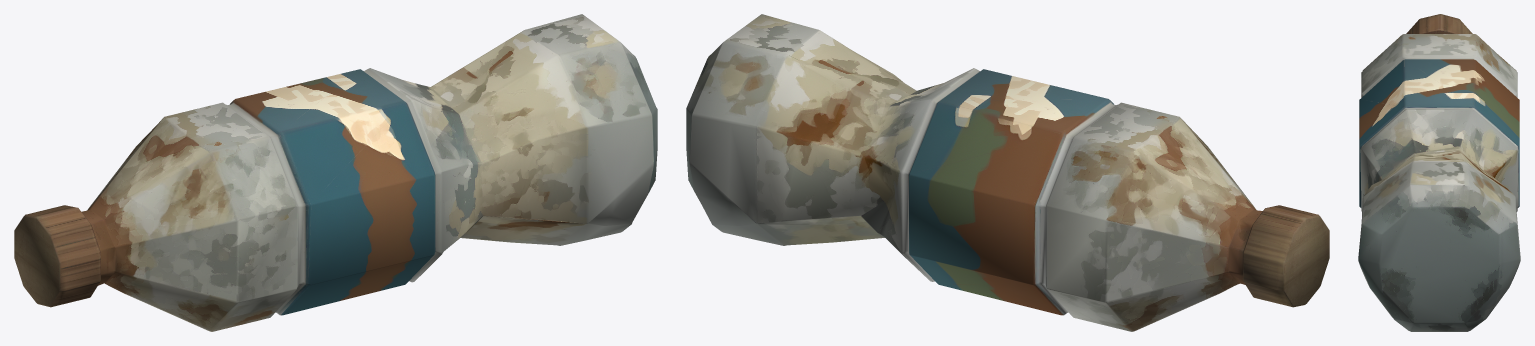
Rendered from trash_small_2.glb.
The picture shows the model from 3 angles, left to right: view 1: azimuth 30°, elevation 25°; view 2: azimuth 150°, elevation 25°; view 3: azimuth 270°, elevation 25°; orthographic projection. The views are drawn at different scales.
Bounding box in the file's own units: 1.91 × 0.5988 × 0.5988.
Materials: 1 (1 with a texture image).
